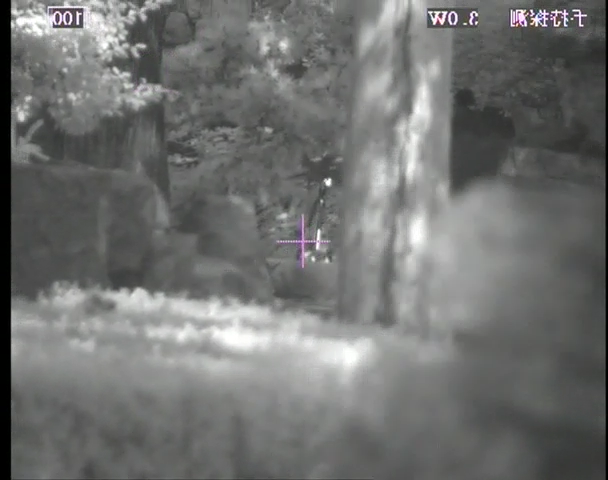my: (323, 177, 332, 187)
